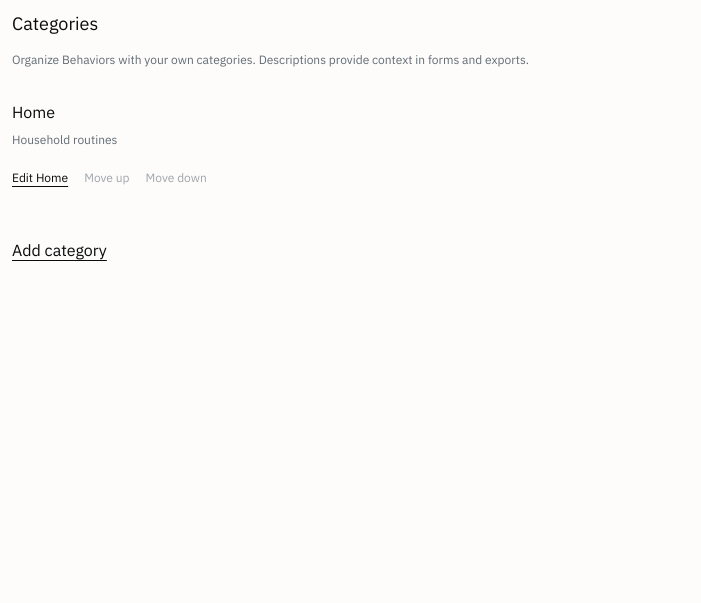
Test case: keeps category drafts after failed saves and confirms the reviewed assignment set
The image size is (701, 603).
Click the button "Edit Home" at (40, 178), box x1=12 y1=156 x2=68 y2=200
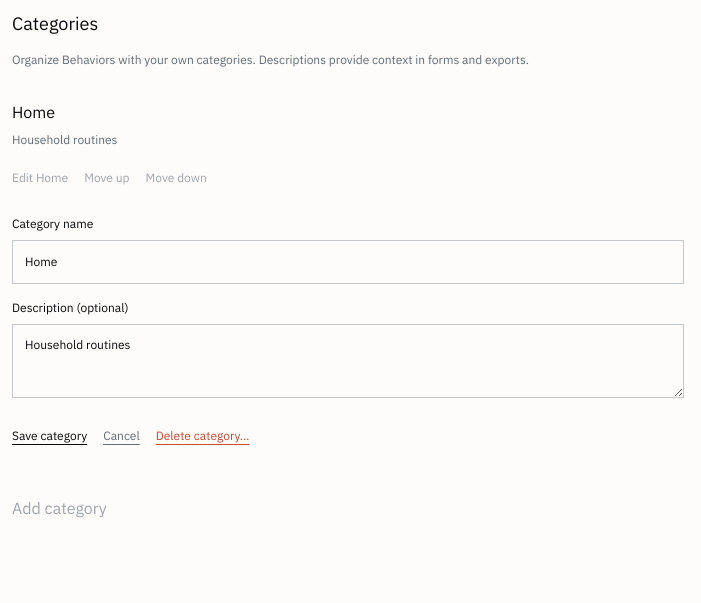
Replace the text in the field named "name" with "Draft" at (348, 262), box x1=12 y1=240 x2=684 y2=284
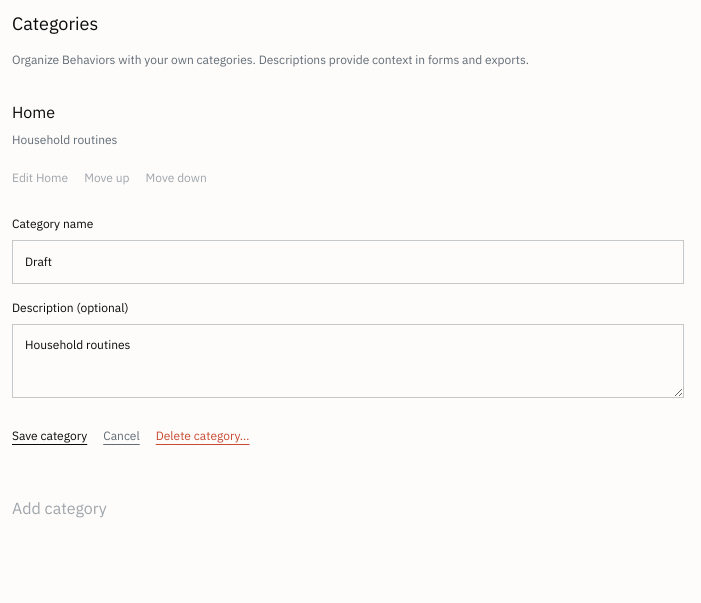
Check: the button "Save category" is shown
Click the button "Save category" at (50, 436), box x1=12 y1=414 x2=87 y2=458
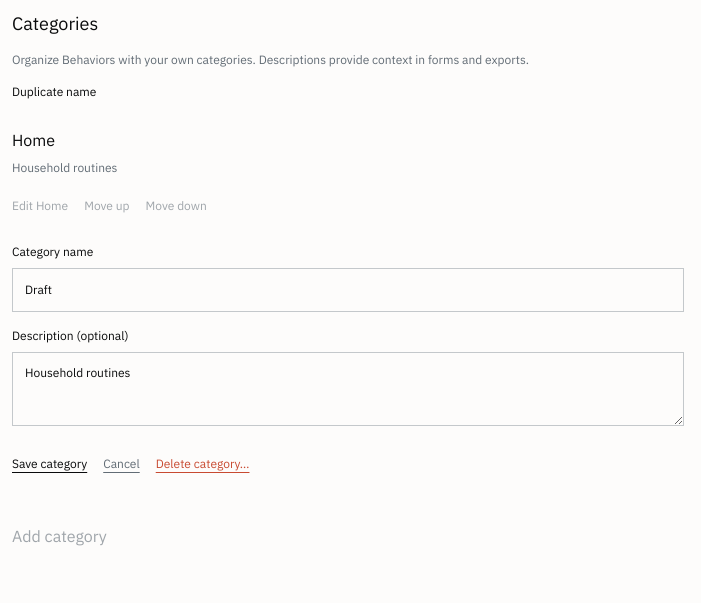
Check: the button "Delete category…" is shown
Check: the text "Duplicate name" is shown, box x1=12 y1=84 x2=96 y2=98
Click the button "Delete category…" at (203, 464), box x1=156 y1=442 x2=250 y2=486
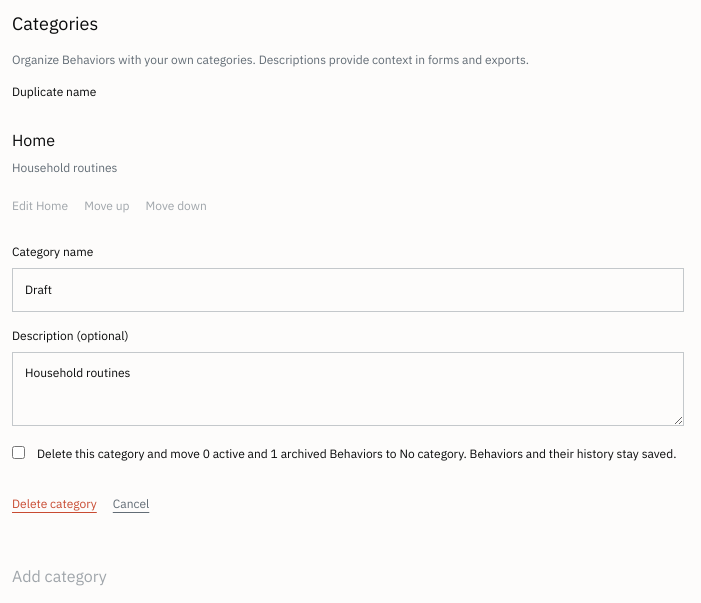
Check: the button "Cancel" is shown
Check: the text "0 active and 1 archived" is shown, box x1=37 y1=442 x2=676 y2=466
Click the button "Cancel" at (131, 504), box x1=113 y1=482 x2=149 y2=526
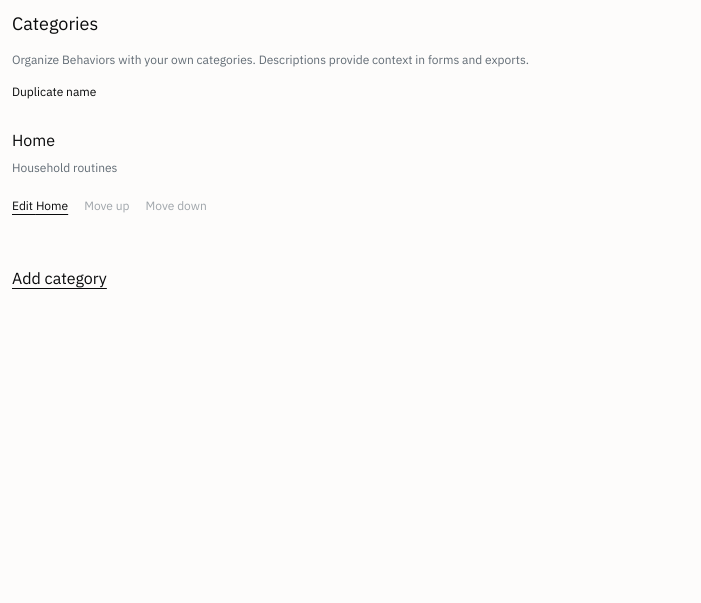
Check: the form is gone
